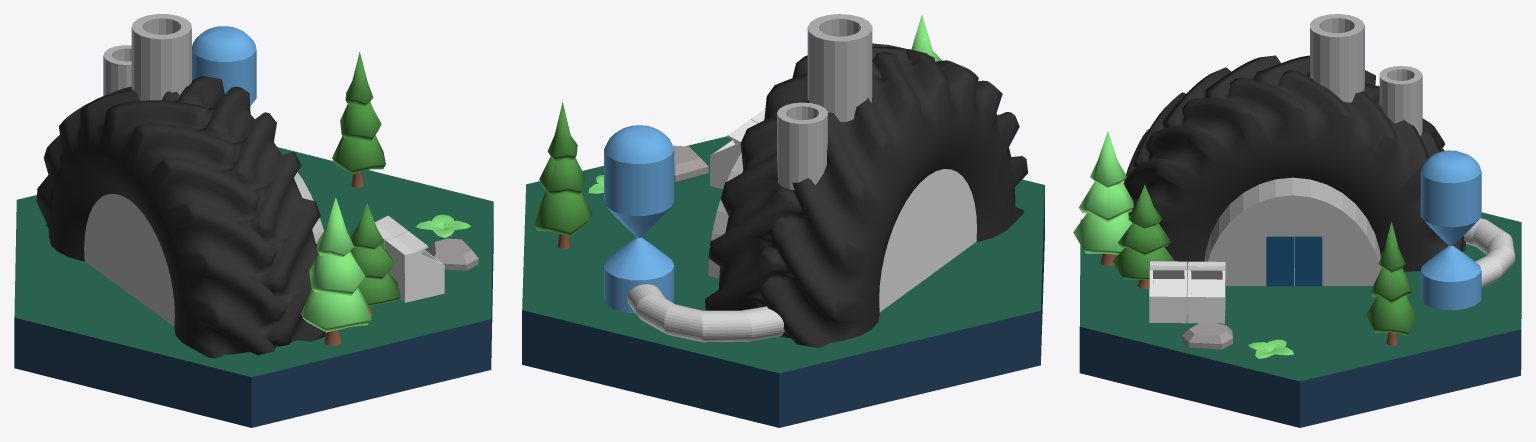
File: Macro - transportation factory lv1 wm 2.fbx
The picture shows the model from 3 angles, left to right: view 1: azimuth 30°, elevation 25°; view 2: azimuth 150°, elevation 25°; view 3: azimuth 270°, elevation 25°; orthographic projection. The views are drawn at different scales.
Visible parts, largest first — view 1: Cylinder.154, Cylinder.012, Cylinder.010, Tree_Spruce_tiny_01.005, Cylinder.001, Tree_Spruce_tiny_01.003, Cylinder.013, Cube.138, Tree_Spruce_tiny_01.007, Cylinder.002, Rock Type4 04 mesh.002, Plane.005 (+1 smaller); view 2: Cylinder.154, Cylinder.012, Cylinder.013, Cylinder.010, Cylinder.001, Cube.001, Tree_Spruce_tiny_01.003, Cylinder.002, Cube.137, Rock Type4 04 mesh.002, Cylinder.005, Tree_Spruce_tiny_01.005; view 3: Cylinder.154, Cylinder.012, Cylinder.005, Cylinder.013, Tree_Spruce_tiny_01.005, Cylinder.001, Tree_Spruce_tiny_01.003, Tree_Spruce_tiny_01.007, Cube.138, Cube.137, Cylinder.002, Cube.001 (+4 smaller).
Part boxes in pixels (left/top/right/bottom): Cylinder.154: left=14, top=147, right=493, bottom=427; Cylinder.012: left=36, top=76, right=325, bottom=358; Cylinder.010: left=84, top=194, right=174, bottom=326; Tree_Spruce_tiny_01.005: left=301, top=197, right=371, bottom=345; Cylinder.001: left=131, top=14, right=191, bottom=100; Tree_Spruce_tiny_01.003: left=332, top=51, right=385, bottom=187; Cylinder.013: left=192, top=26, right=256, bottom=105; Cube.138: left=385, top=231, right=444, bottom=302; Tree_Spruce_tiny_01.007: left=349, top=203, right=400, bottom=316; Cylinder.002: left=103, top=45, right=131, bottom=95; Rock Type4 04 mesh.002: left=428, top=238, right=478, bottom=270; Plane.005: left=415, top=214, right=470, bottom=237; Cylinder.154: left=522, top=136, right=1044, bottom=427; Cylinder.012: left=705, top=43, right=1027, bottom=347; Cylinder.013: left=604, top=125, right=674, bottom=313; Cylinder.010: left=879, top=169, right=976, bottom=312; Cylinder.001: left=807, top=14, right=872, bottom=121; Cube.001: left=627, top=284, right=784, bottom=342; Tree_Spruce_tiny_01.003: left=534, top=102, right=592, bottom=249; Cylinder.002: left=777, top=102, right=827, bottom=189; Cube.137: left=710, top=119, right=757, bottom=189; Rock Type4 04 mesh.002: left=673, top=145, right=708, bottom=181; Cylinder.005: left=708, top=152, right=743, bottom=278; Tree_Spruce_tiny_01.005: left=911, top=14, right=941, bottom=61; Cylinder.154: left=1079, top=212, right=1521, bottom=427; Cylinder.012: left=1123, top=55, right=1465, bottom=271; Cylinder.005: left=1204, top=177, right=1381, bottom=285; Cylinder.013: left=1420, top=150, right=1481, bottom=310; Tree_Spruce_tiny_01.005: left=1073, top=131, right=1133, bottom=266; Cylinder.001: left=1310, top=14, right=1364, bottom=102; Tree_Spruce_tiny_01.003: left=1366, top=221, right=1416, bottom=345; Tree_Spruce_tiny_01.007: left=1112, top=184, right=1174, bottom=289; Cube.138: left=1149, top=261, right=1187, bottom=323; Cube.137: left=1187, top=261, right=1225, bottom=323; Cylinder.002: left=1379, top=66, right=1422, bottom=135; Cube.001: left=1463, top=218, right=1515, bottom=288.
Size of the model in its own units: 197 by 133 by 175.
